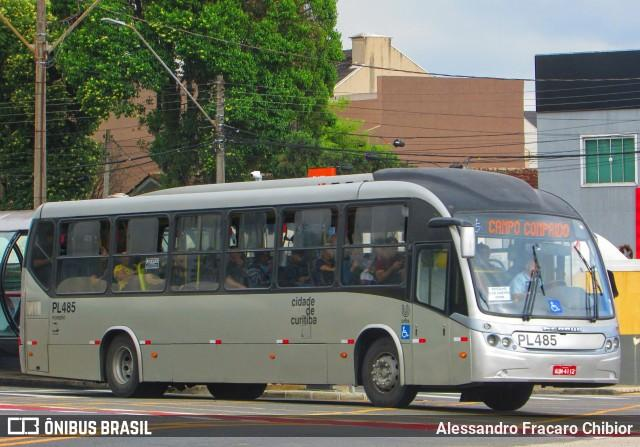CAMPO COMPRIDO: (482, 215, 574, 242)
